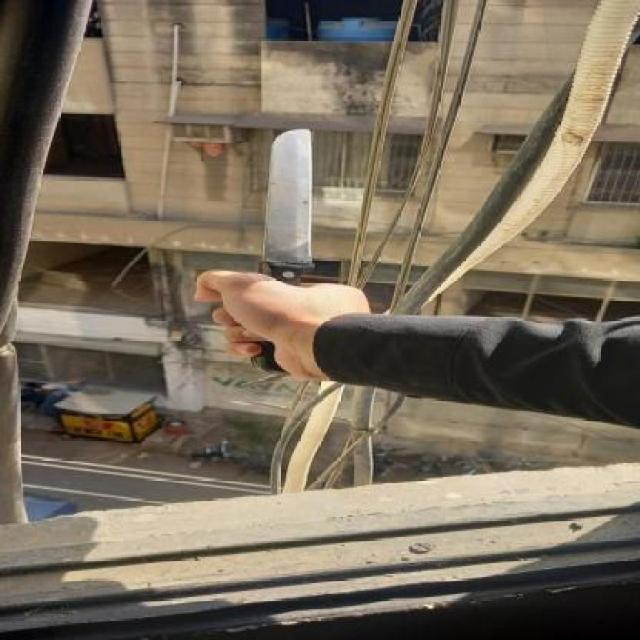knife: (251, 126, 313, 374)
